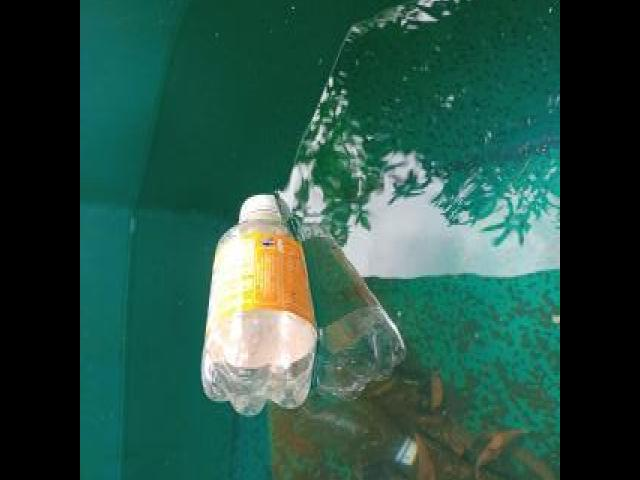Bottle: (195, 186, 322, 424)
